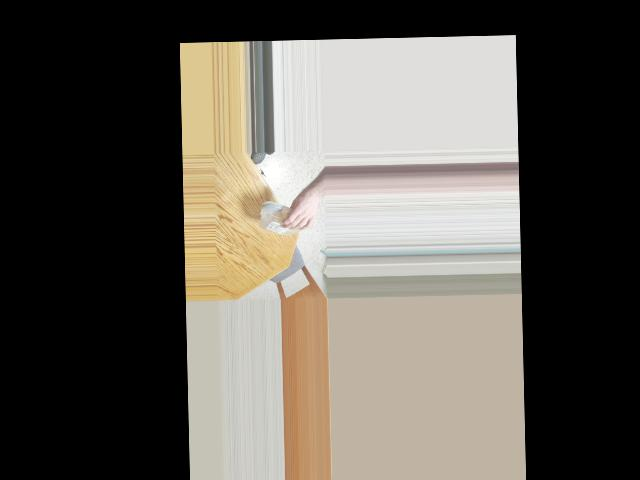cheese: (261, 202, 301, 237)
